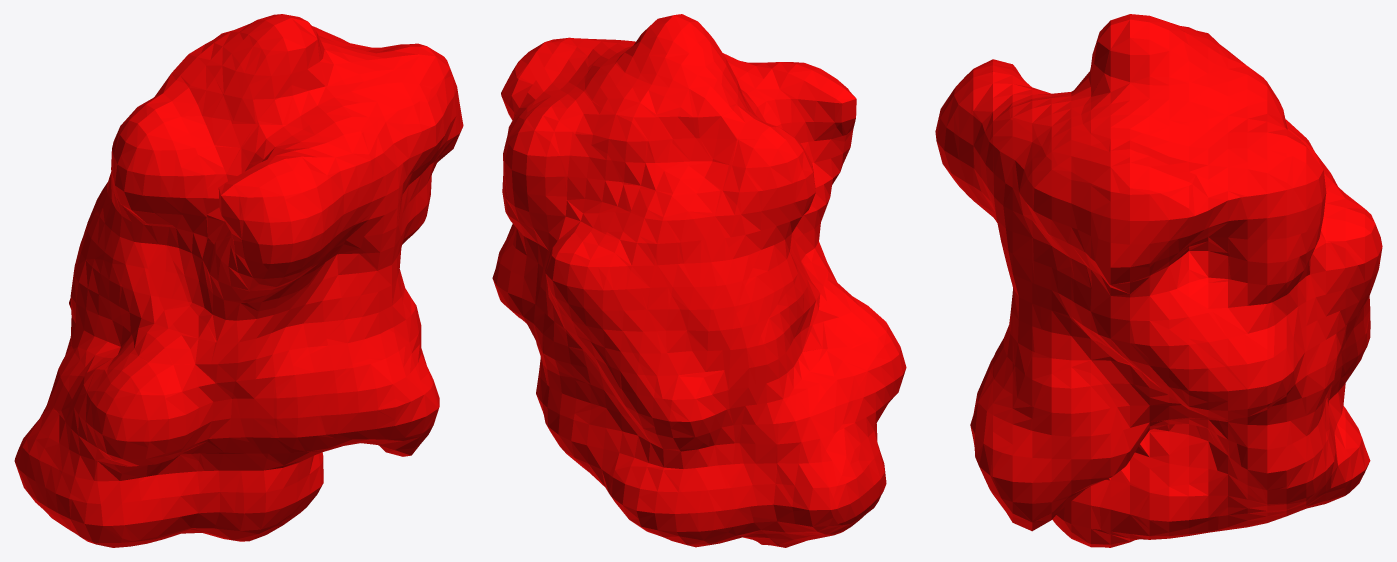
Rendered from plsX_coarse.dae.
3 views of the same model, side by side, from view 1: azimuth 30°, elevation 25°; view 2: azimuth 150°, elevation 25°; view 3: azimuth 270°, elevation 25° (orthographic). The views are drawn at different scales.
Parts seen in each view (by area): view 1: plsX; view 2: plsX; view 3: plsX.
Part boxes in pixels (bbox=[...]): plsX: bbox=[14, 14, 463, 547]; plsX: bbox=[492, 14, 906, 547]; plsX: bbox=[935, 14, 1382, 547].
Size of the model in its own units: 54.25 by 65.76 by 47.58.
